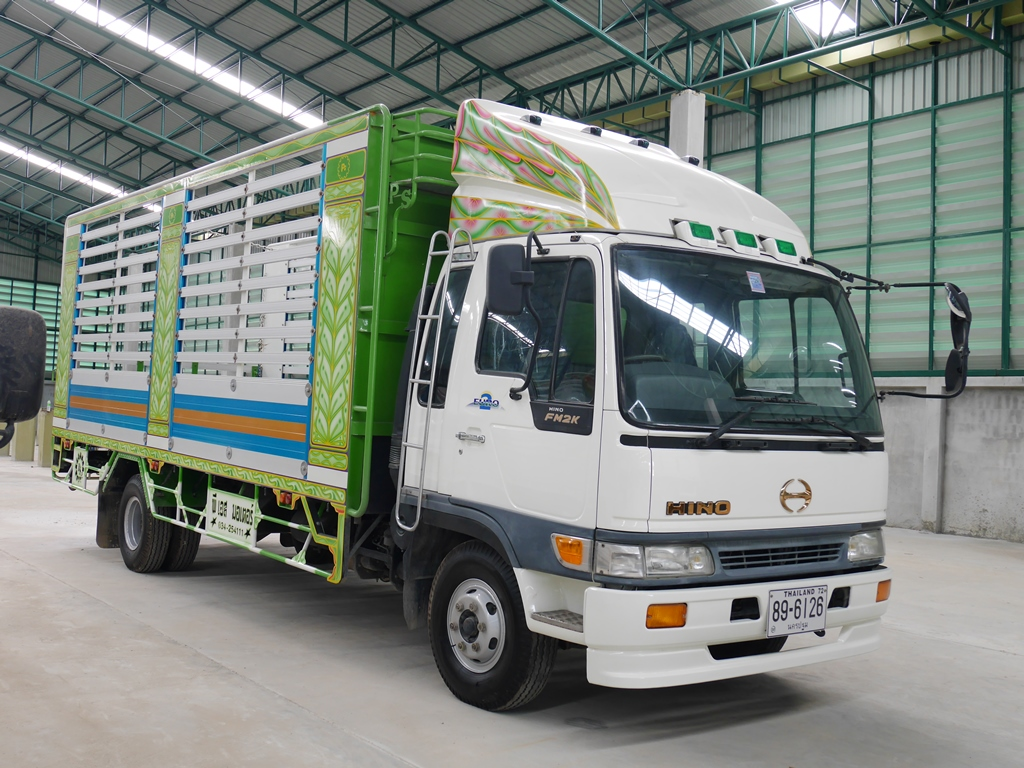truck: (52, 97, 893, 713)
